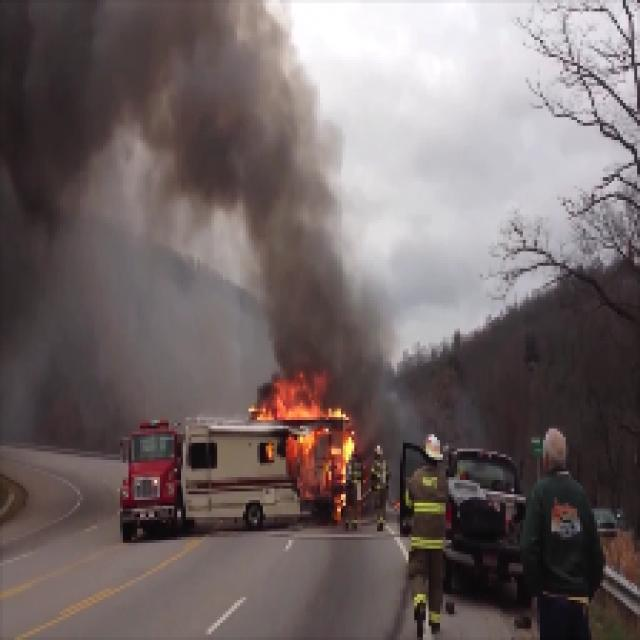Fire: (258, 374, 356, 515)
Smoke: (0, 5, 324, 249), (257, 258, 400, 367)
